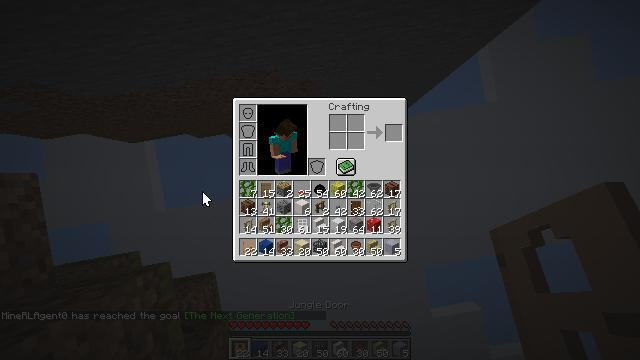cursor: (191, 202, 207, 212)
